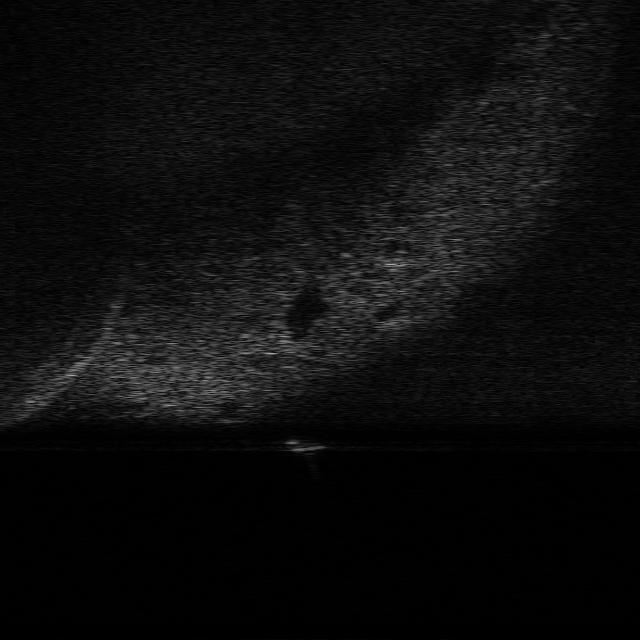cube: (280, 438, 328, 454)
